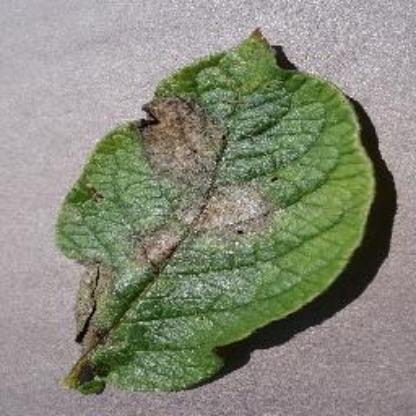Late-Blight: (47, 27, 377, 395)
